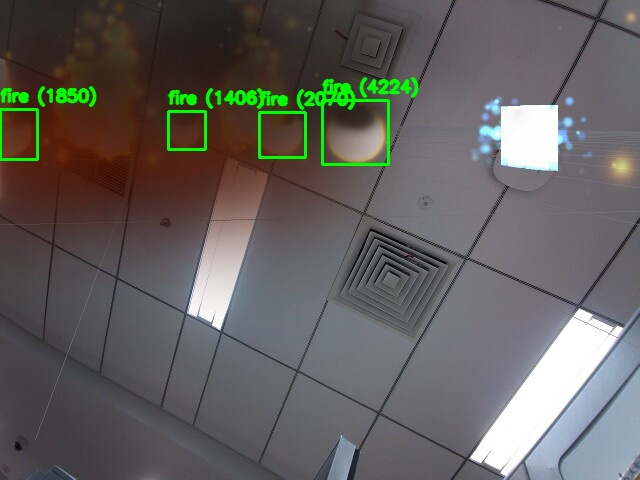fire: (322, 100, 388, 164), (259, 112, 305, 157), (0, 109, 37, 159), (168, 111, 205, 149)
